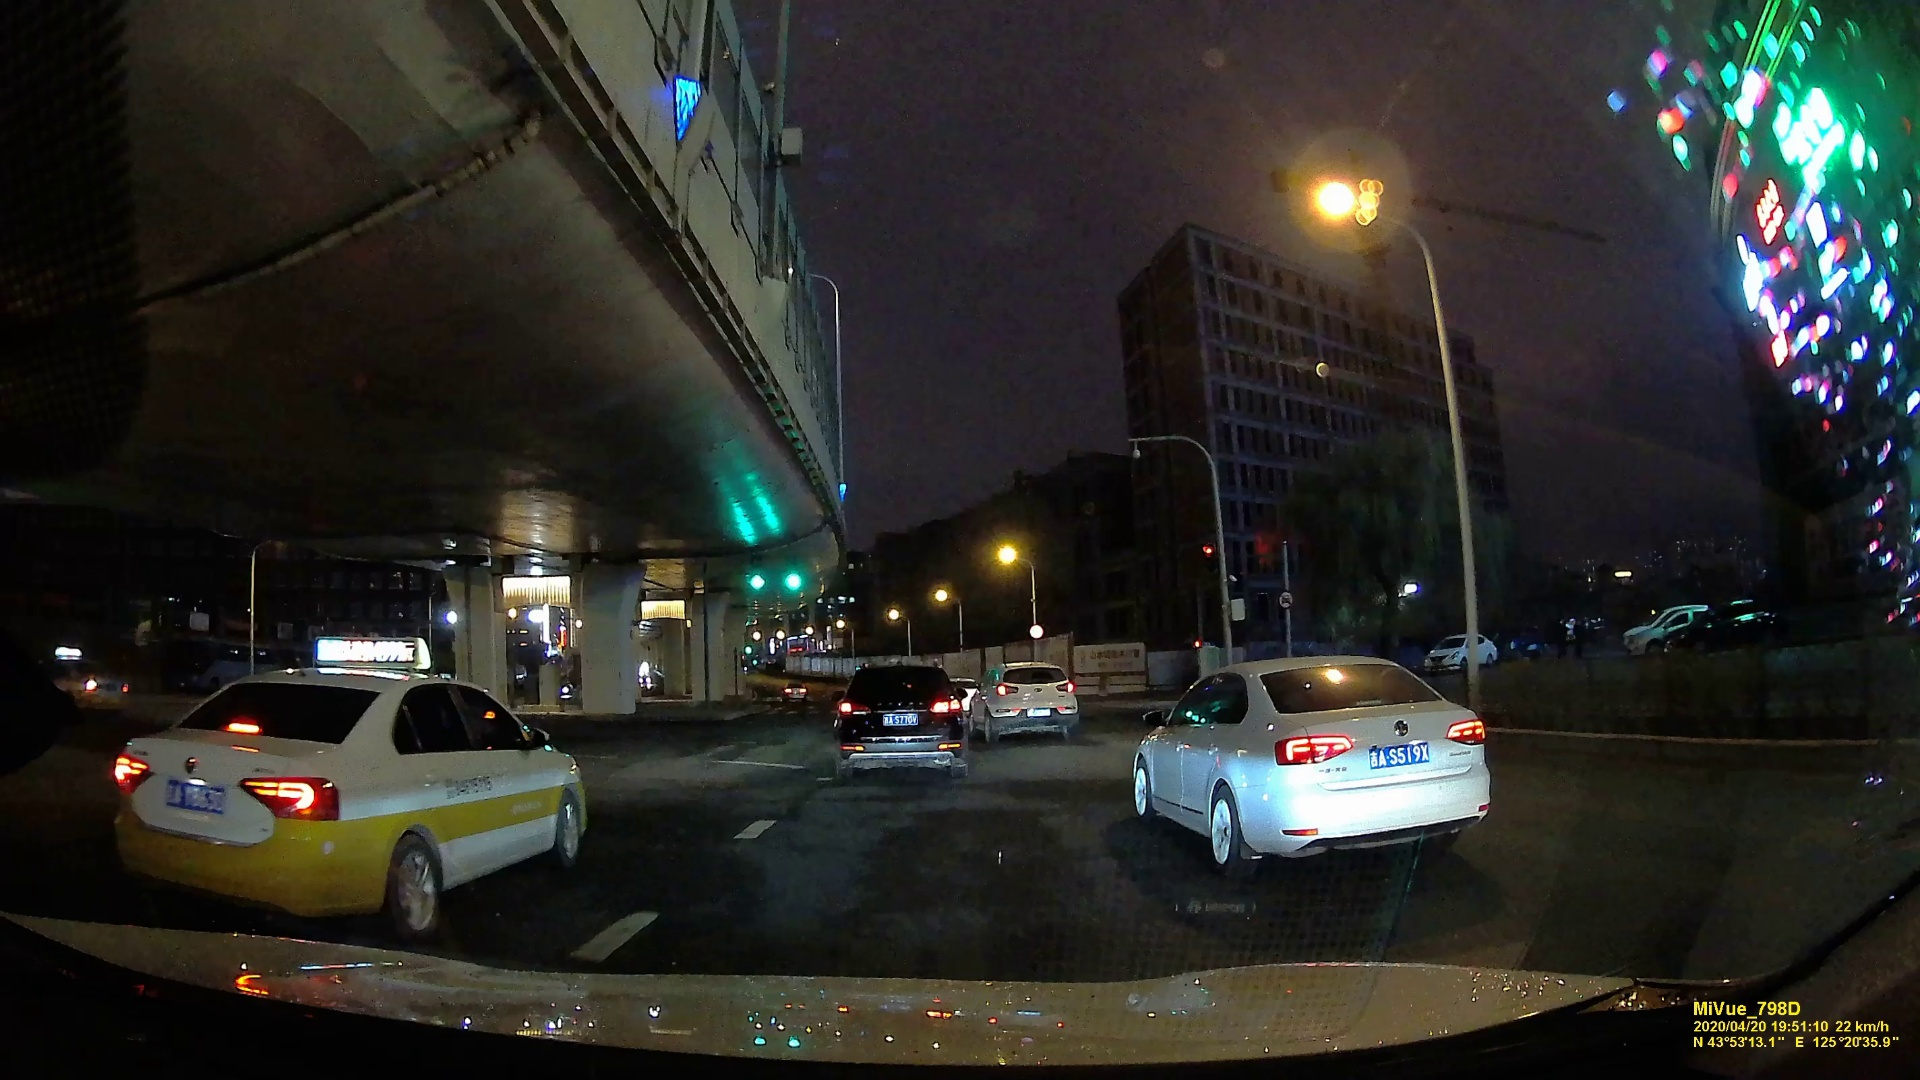minibus: (746, 560, 766, 589)
traffic_sign: (1766, 3, 1830, 100)
vehicle: (117, 663, 593, 936), (1127, 651, 1503, 877), (832, 658, 969, 787), (964, 662, 1079, 738), (1428, 632, 1505, 671), (785, 560, 802, 592), (782, 684, 806, 702)
